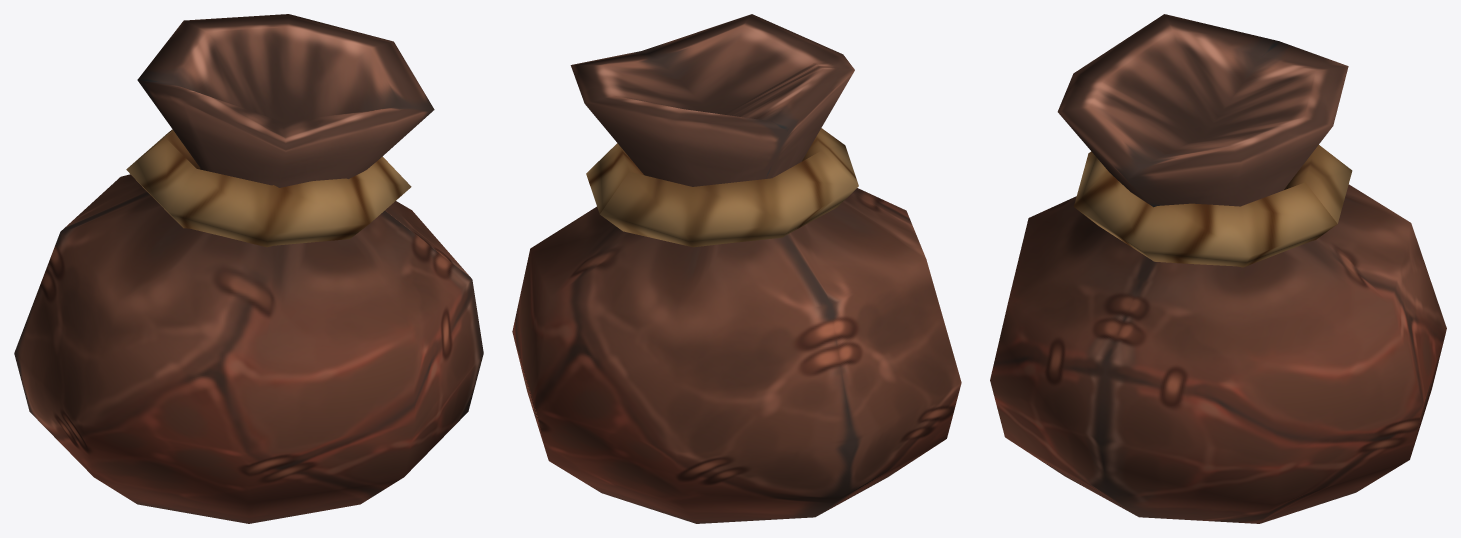
The model's file is Bag.FBX.
3 renders of one model, left to right at view 1: azimuth 30°, elevation 25°; view 2: azimuth 150°, elevation 25°; view 3: azimuth 270°, elevation 25°, orthographic.
Visible parts, largest first — view 1: coin bag; view 2: coin bag; view 3: coin bag.
Boxes of the visible parts, left/top/right/bottom form: coin bag: left=14, top=14, right=483, bottom=523; coin bag: left=512, top=14, right=961, bottom=523; coin bag: left=990, top=14, right=1446, bottom=523.
Size of the model in its own units: 73.45 by 70.88 by 73.45.
